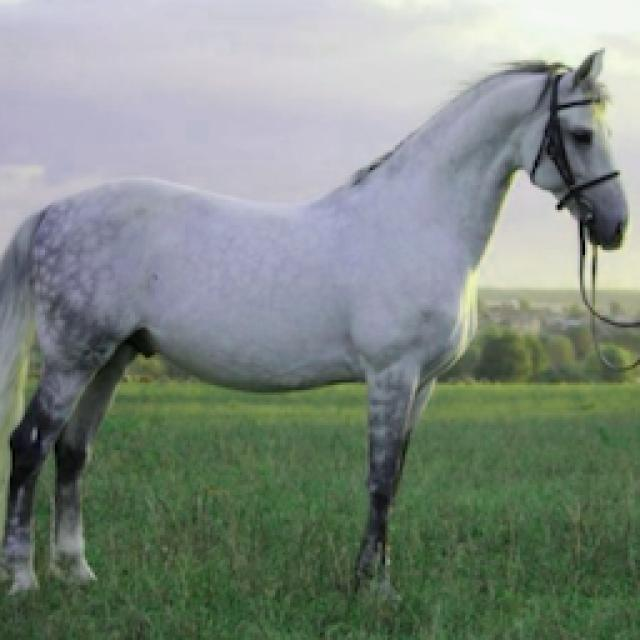Horse: (2, 42, 640, 612)
